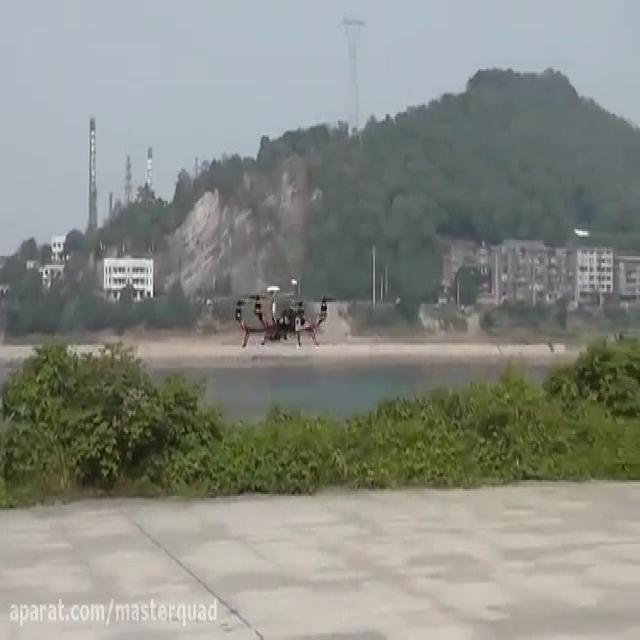drone: (231, 276, 338, 352)
